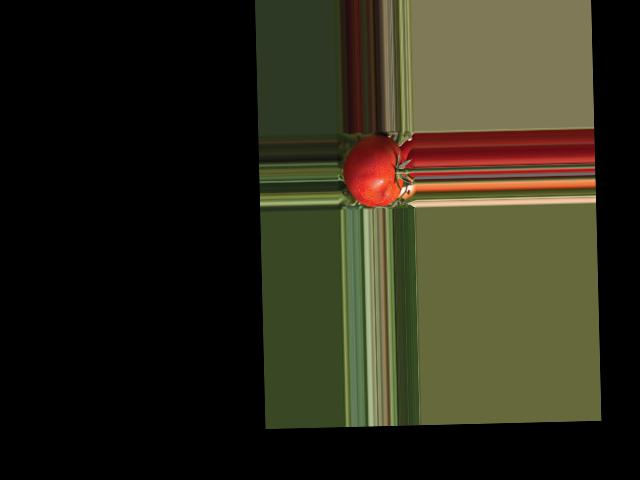tomato: (342, 135, 405, 207)
